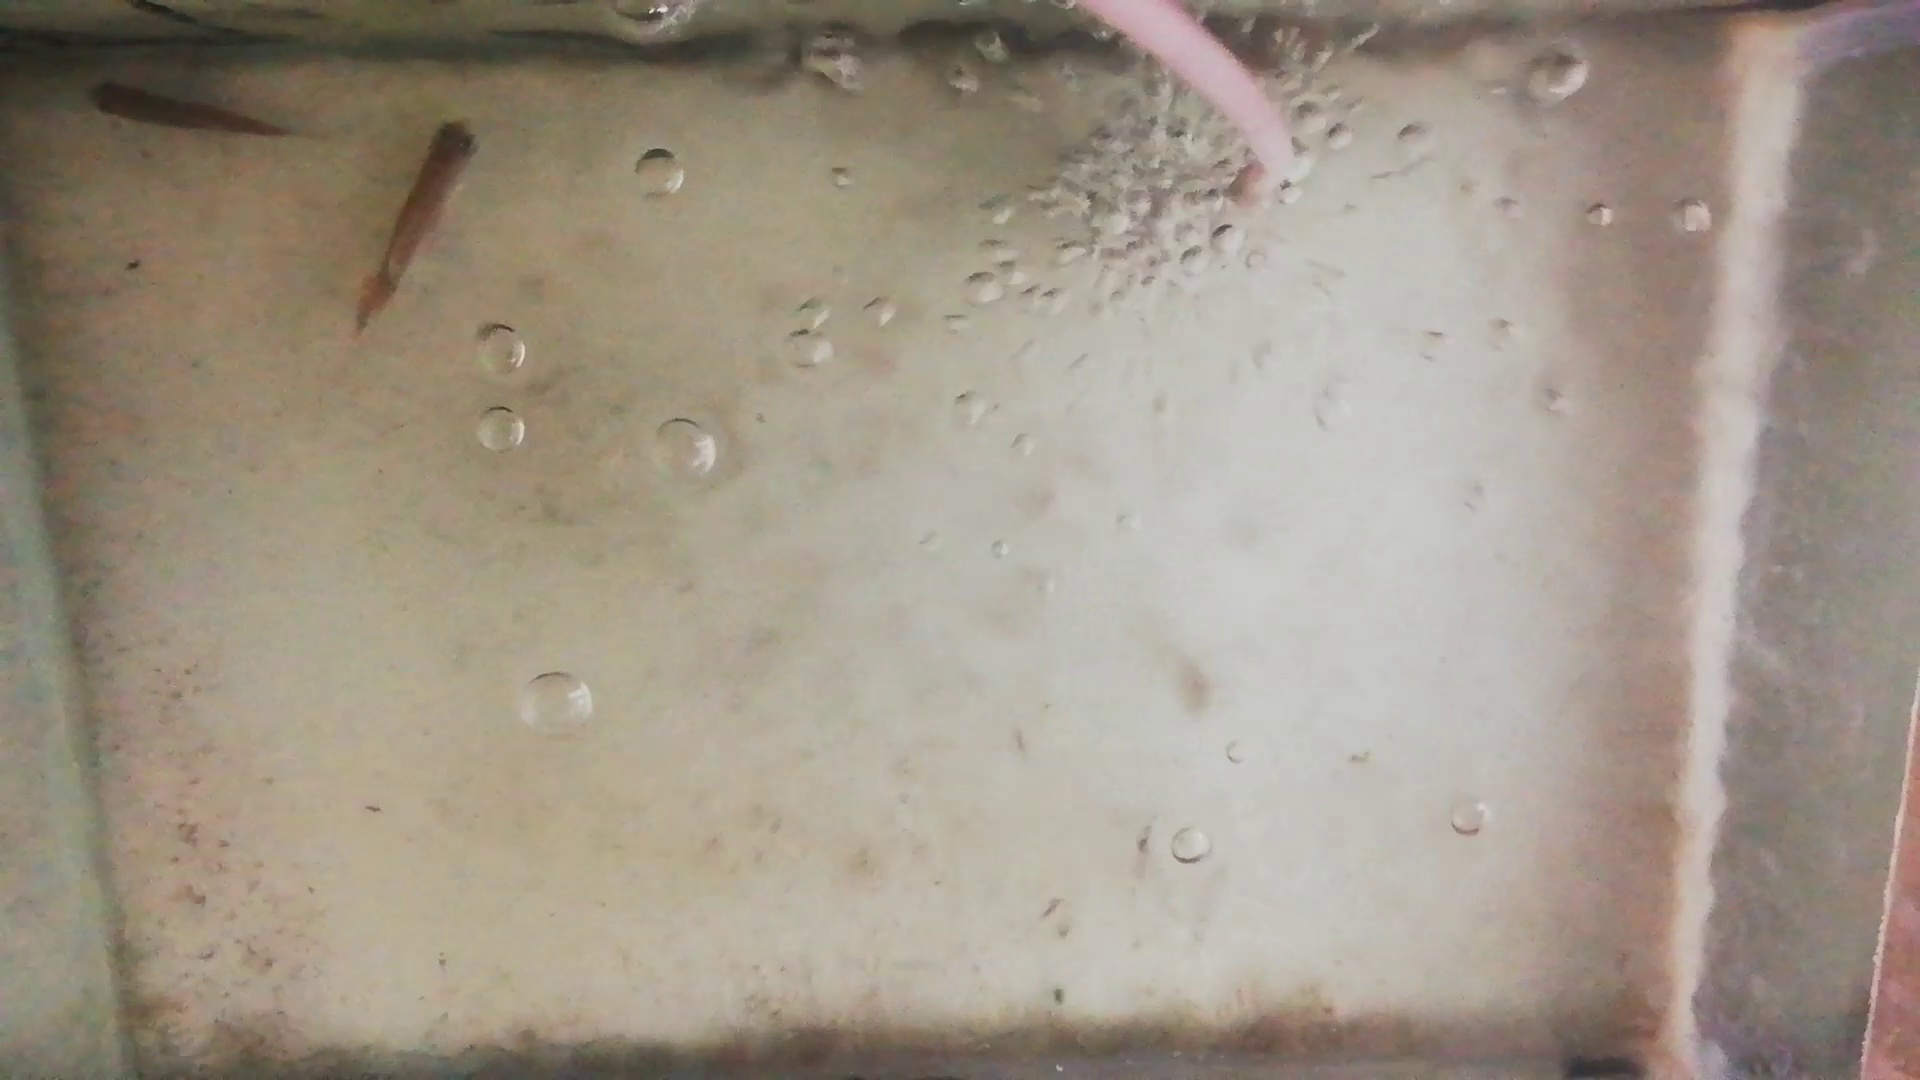fish: (351, 117, 485, 336), (79, 80, 284, 136)
